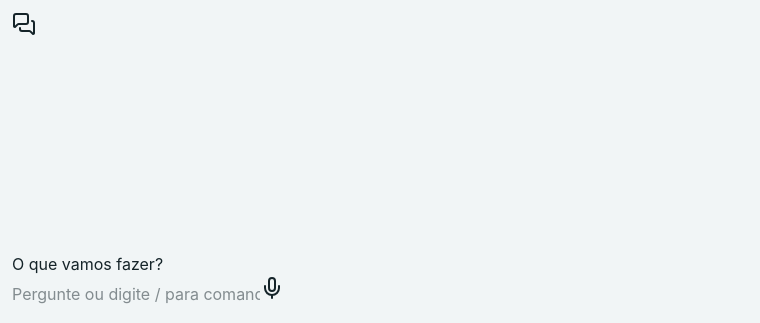
Scenario: a dropped connection warns before resending and refreshes the agenda
Type "crie a tarefa" into the field named "Mensagem para a IA" at coordinates (136, 294), box x1=12 y1=282 x2=260 y2=306
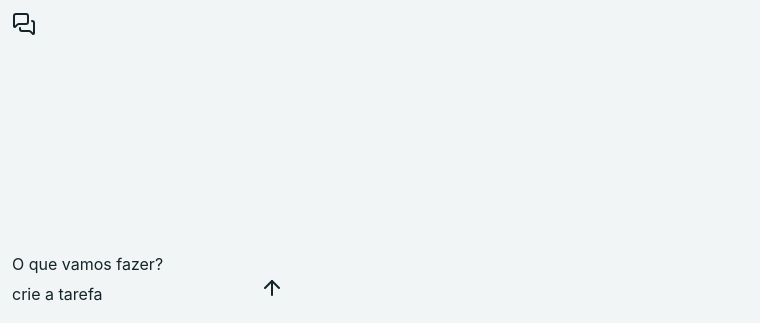
Submit the form named "Mensagem para a IA", box x1=12 y1=276 x2=284 y2=306
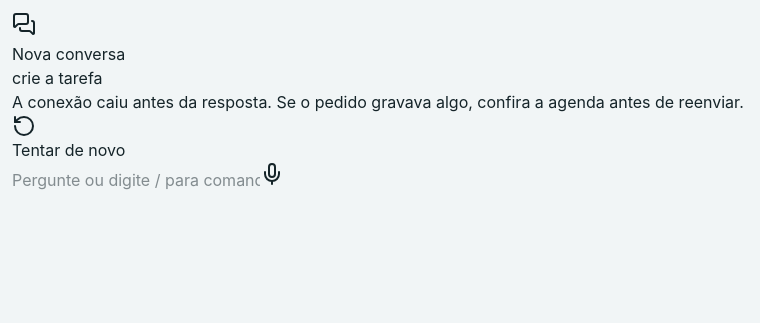
Expected: the text "confira a agenda antes de reenviar" is shown, x1=12 y1=92 x2=744 y2=112
